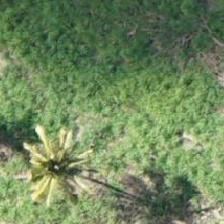coconut_tree: (19, 125, 109, 215)
